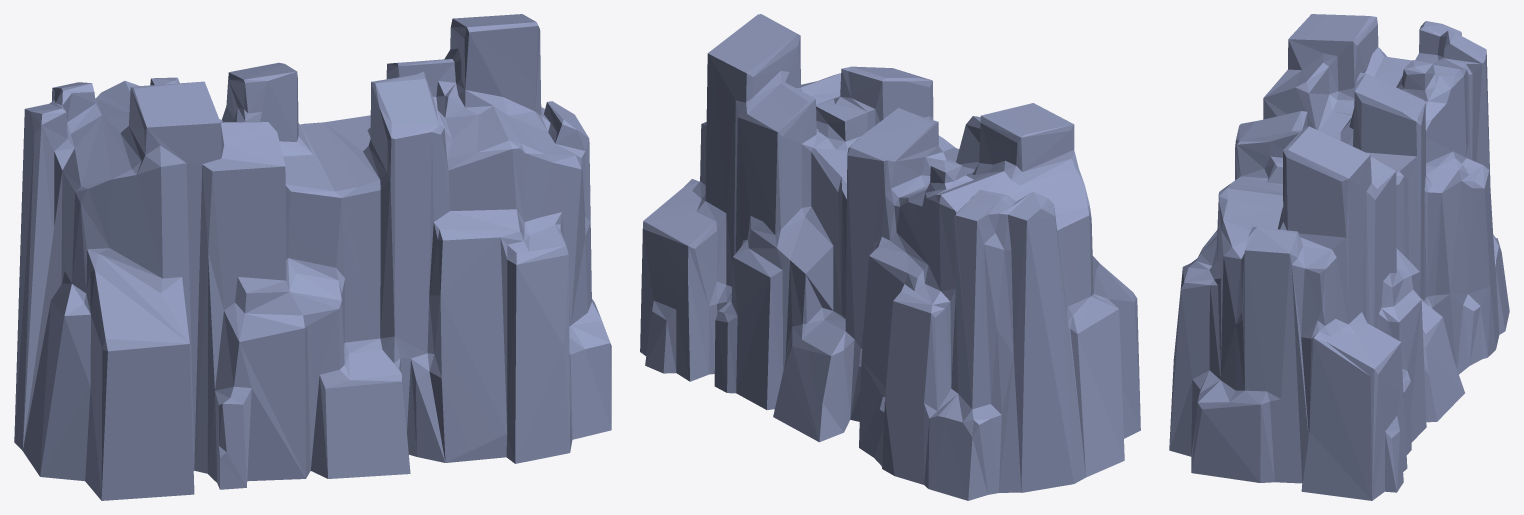
Rendered from Rock_Formation_1.fbx.
3 views of the same model, side by side, from view 1: azimuth 30°, elevation 25°; view 2: azimuth 150°, elevation 25°; view 3: azimuth 270°, elevation 25° (orthographic). The views are drawn at different scales.
Visible parts, largest first — view 1: Rock_Formation_1; view 2: Rock_Formation_1; view 3: Rock_Formation_1.
Boxes of the visible parts, box(x1,y1,x2,y2) form: Rock_Formation_1: box(14, 14, 611, 500); Rock_Formation_1: box(640, 14, 1140, 500); Rock_Formation_1: box(1169, 14, 1509, 500).
Size of the model in its own units: 30.42 by 19.88 by 19.39.
